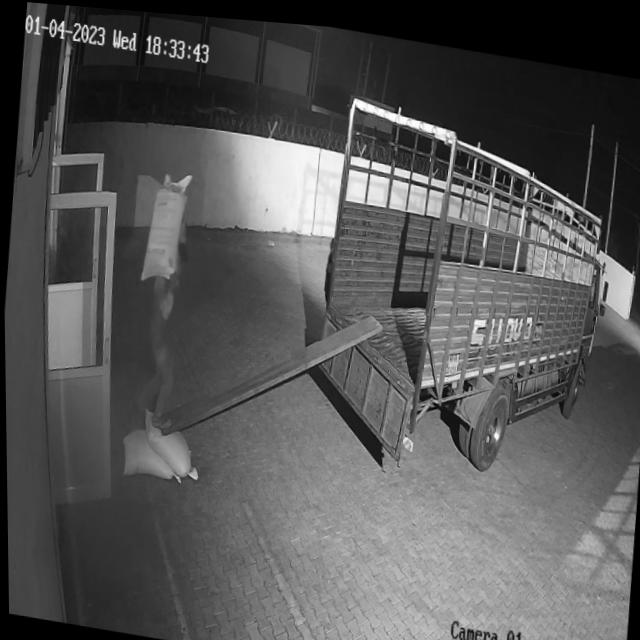sack: (136, 164, 193, 285), (137, 404, 203, 478), (117, 425, 182, 481)
